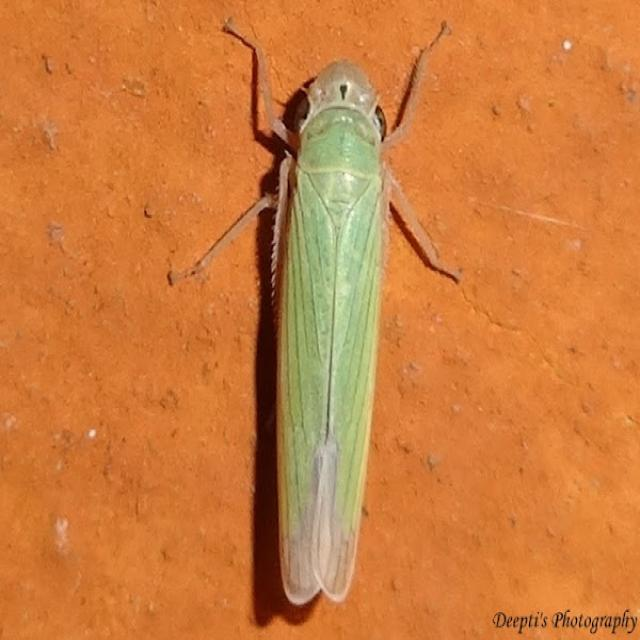Yechan: (208, 13, 459, 614)
